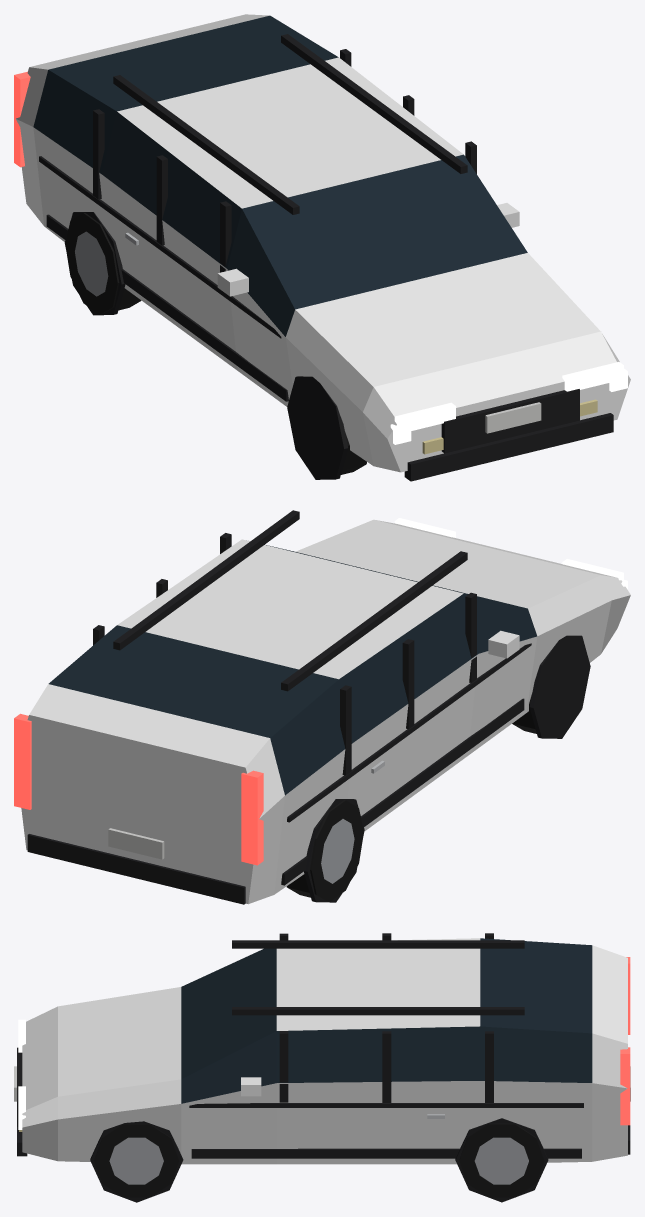
File: car_v60.glb
3 renders of one model, top to bottom at view 1: azimuth 30°, elevation 25°; view 2: azimuth 150°, elevation 25°; view 3: azimuth 270°, elevation 25°, orthographic. The views are drawn at different scales.
Visible parts, largest first — view 1: V60_Body, V60_Detail, V60_WheelsR; view 2: V60_Body, V60_Detail, V60_WheelsR; view 3: V60_Body, V60_Detail, V60_WheelsR, V60_WheelsF.
Part boxes in pixels (x1,y1,x2,y2): V60_Body: (14, 14, 630, 481); V60_Detail: (39, 49, 597, 479); V60_WheelsR: (65, 212, 141, 314); V60_Body: (14, 510, 630, 904); V60_Detail: (93, 533, 590, 902); V60_WheelsR: (286, 800, 363, 902); V60_Body: (17, 938, 630, 1164); V60_Detail: (14, 933, 630, 1202); V60_WheelsR: (459, 1123, 544, 1197); V60_WheelsF: (94, 1124, 179, 1197).
Bounding box in the file's own units: 2.14 × 1.55 × 4.85.
